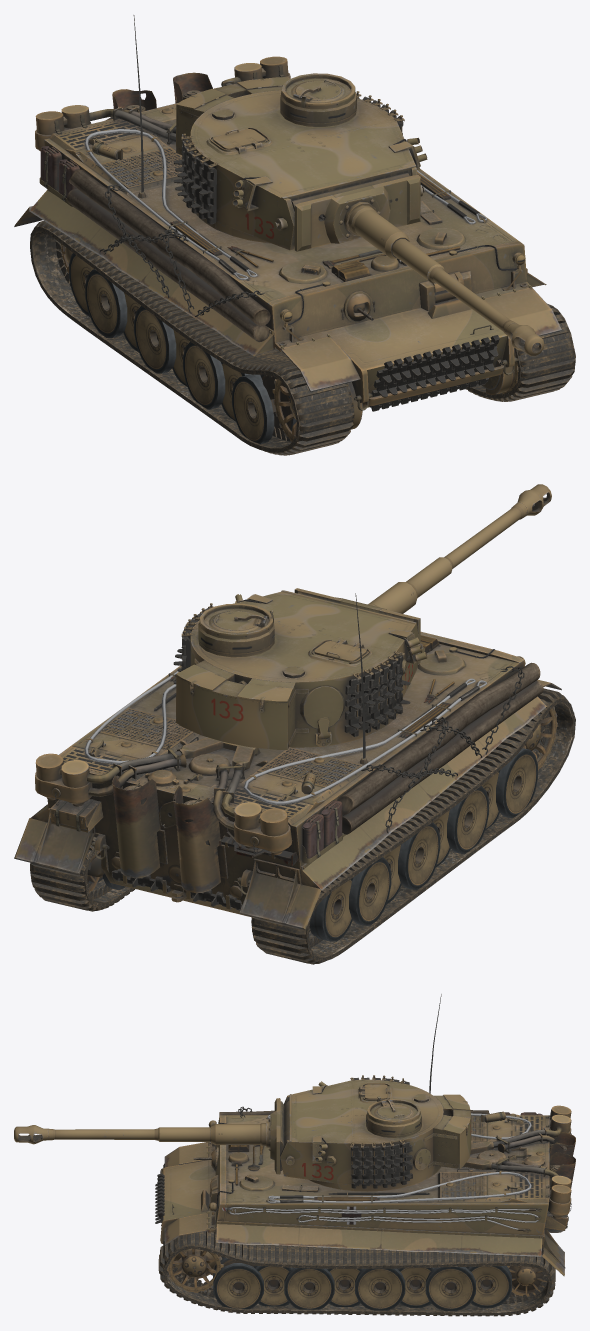
File: pzkpfw_vi_tiger_1.glb
3 views of the same model, one above another, from view 1: azimuth 30°, elevation 25°; view 2: azimuth 150°, elevation 25°; view 3: azimuth 270°, elevation 25° (orthographic). The views are drawn at different scales.
Parts seen in each view (by area): view 1: tiger_hull, tiger_turret; view 2: tiger_hull, tiger_turret; view 3: tiger_hull, tiger_turret.
Boxes of the visible parts, x1,y1,x2,y2 form: tiger_hull: (14, 15, 575, 455); tiger_turret: (173, 73, 544, 356); tiger_hull: (14, 593, 575, 964); tiger_turret: (173, 484, 551, 749); tiger_hull: (155, 994, 575, 1316); tiger_turret: (14, 1075, 471, 1191).
Bounding box in the file's own units: 3.72 × 3.94 × 8.43.
3 materials, 3 textured.
